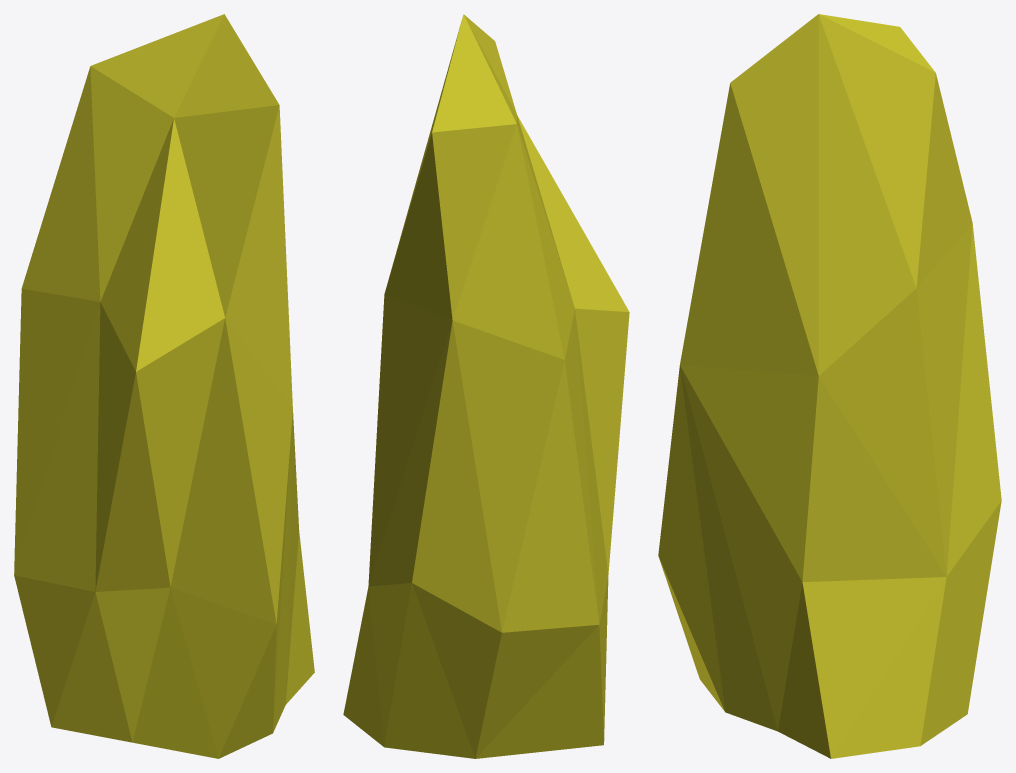
Rendered from Tree_3.fbx.
3 views of the same model, side by side, from view 1: azimuth 30°, elevation 25°; view 2: azimuth 150°, elevation 25°; view 3: azimuth 270°, elevation 25° (orthographic). The views are drawn at different scales.
Visible parts, largest first — view 1: Tree_3; view 2: Tree_3; view 3: Tree_3.
Part boxes in pixels (bbox=[...]): Tree_3: bbox=[14, 14, 314, 758]; Tree_3: bbox=[343, 14, 629, 758]; Tree_3: bbox=[658, 14, 1001, 758].
Size of the model in its own units: 409 by 994 by 444.
